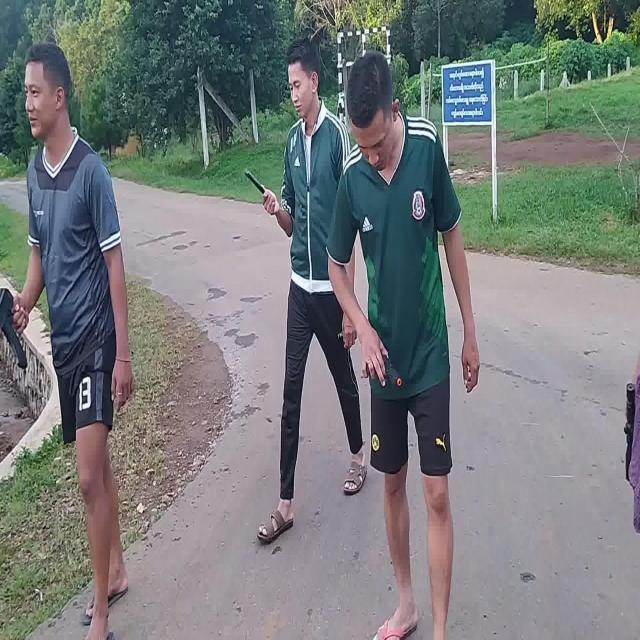gun: (1, 289, 29, 367), (366, 355, 402, 387)
